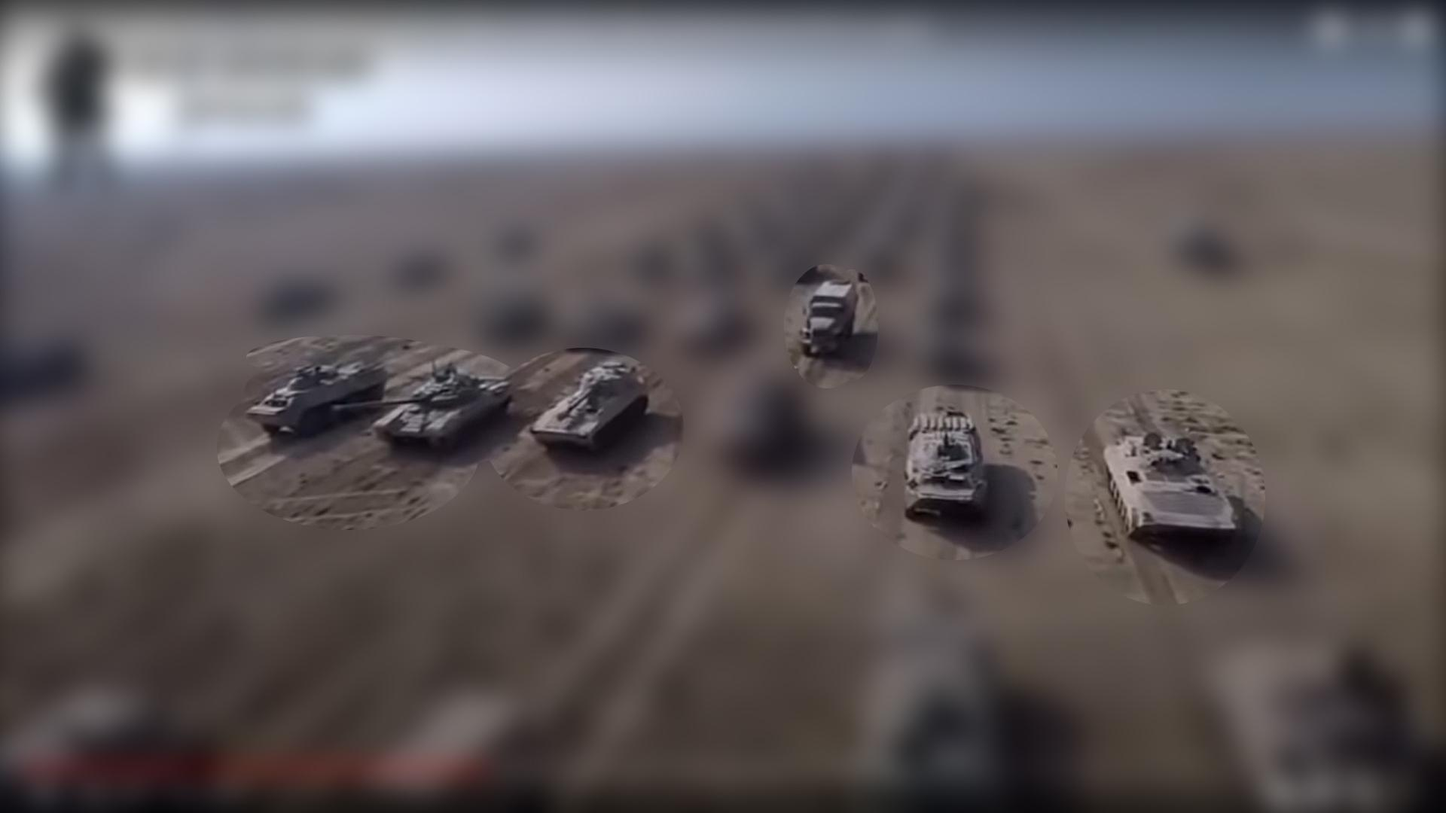armored_car: (1095, 431, 1245, 553), (238, 353, 389, 446), (899, 407, 994, 522)
tank: (326, 374, 514, 452), (527, 351, 653, 460)
truck: (798, 279, 862, 363)
